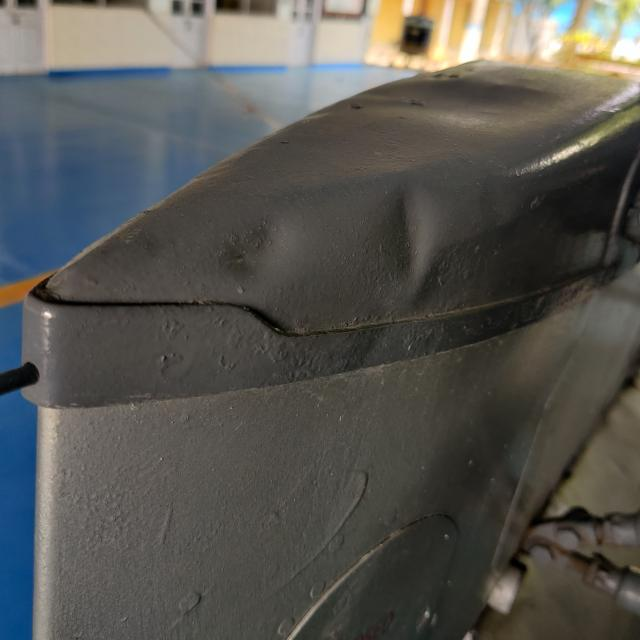dent: (363, 175, 448, 299), (204, 202, 298, 300)
